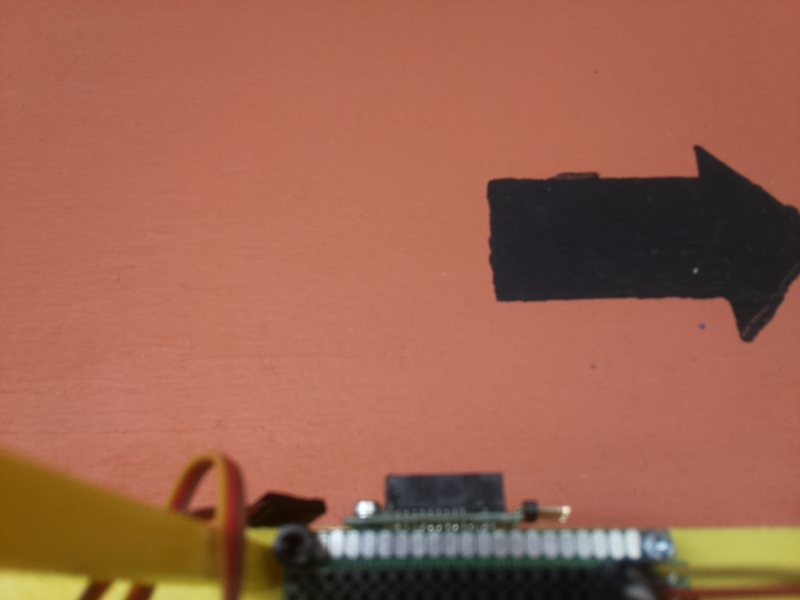start: (487, 143, 800, 345)
